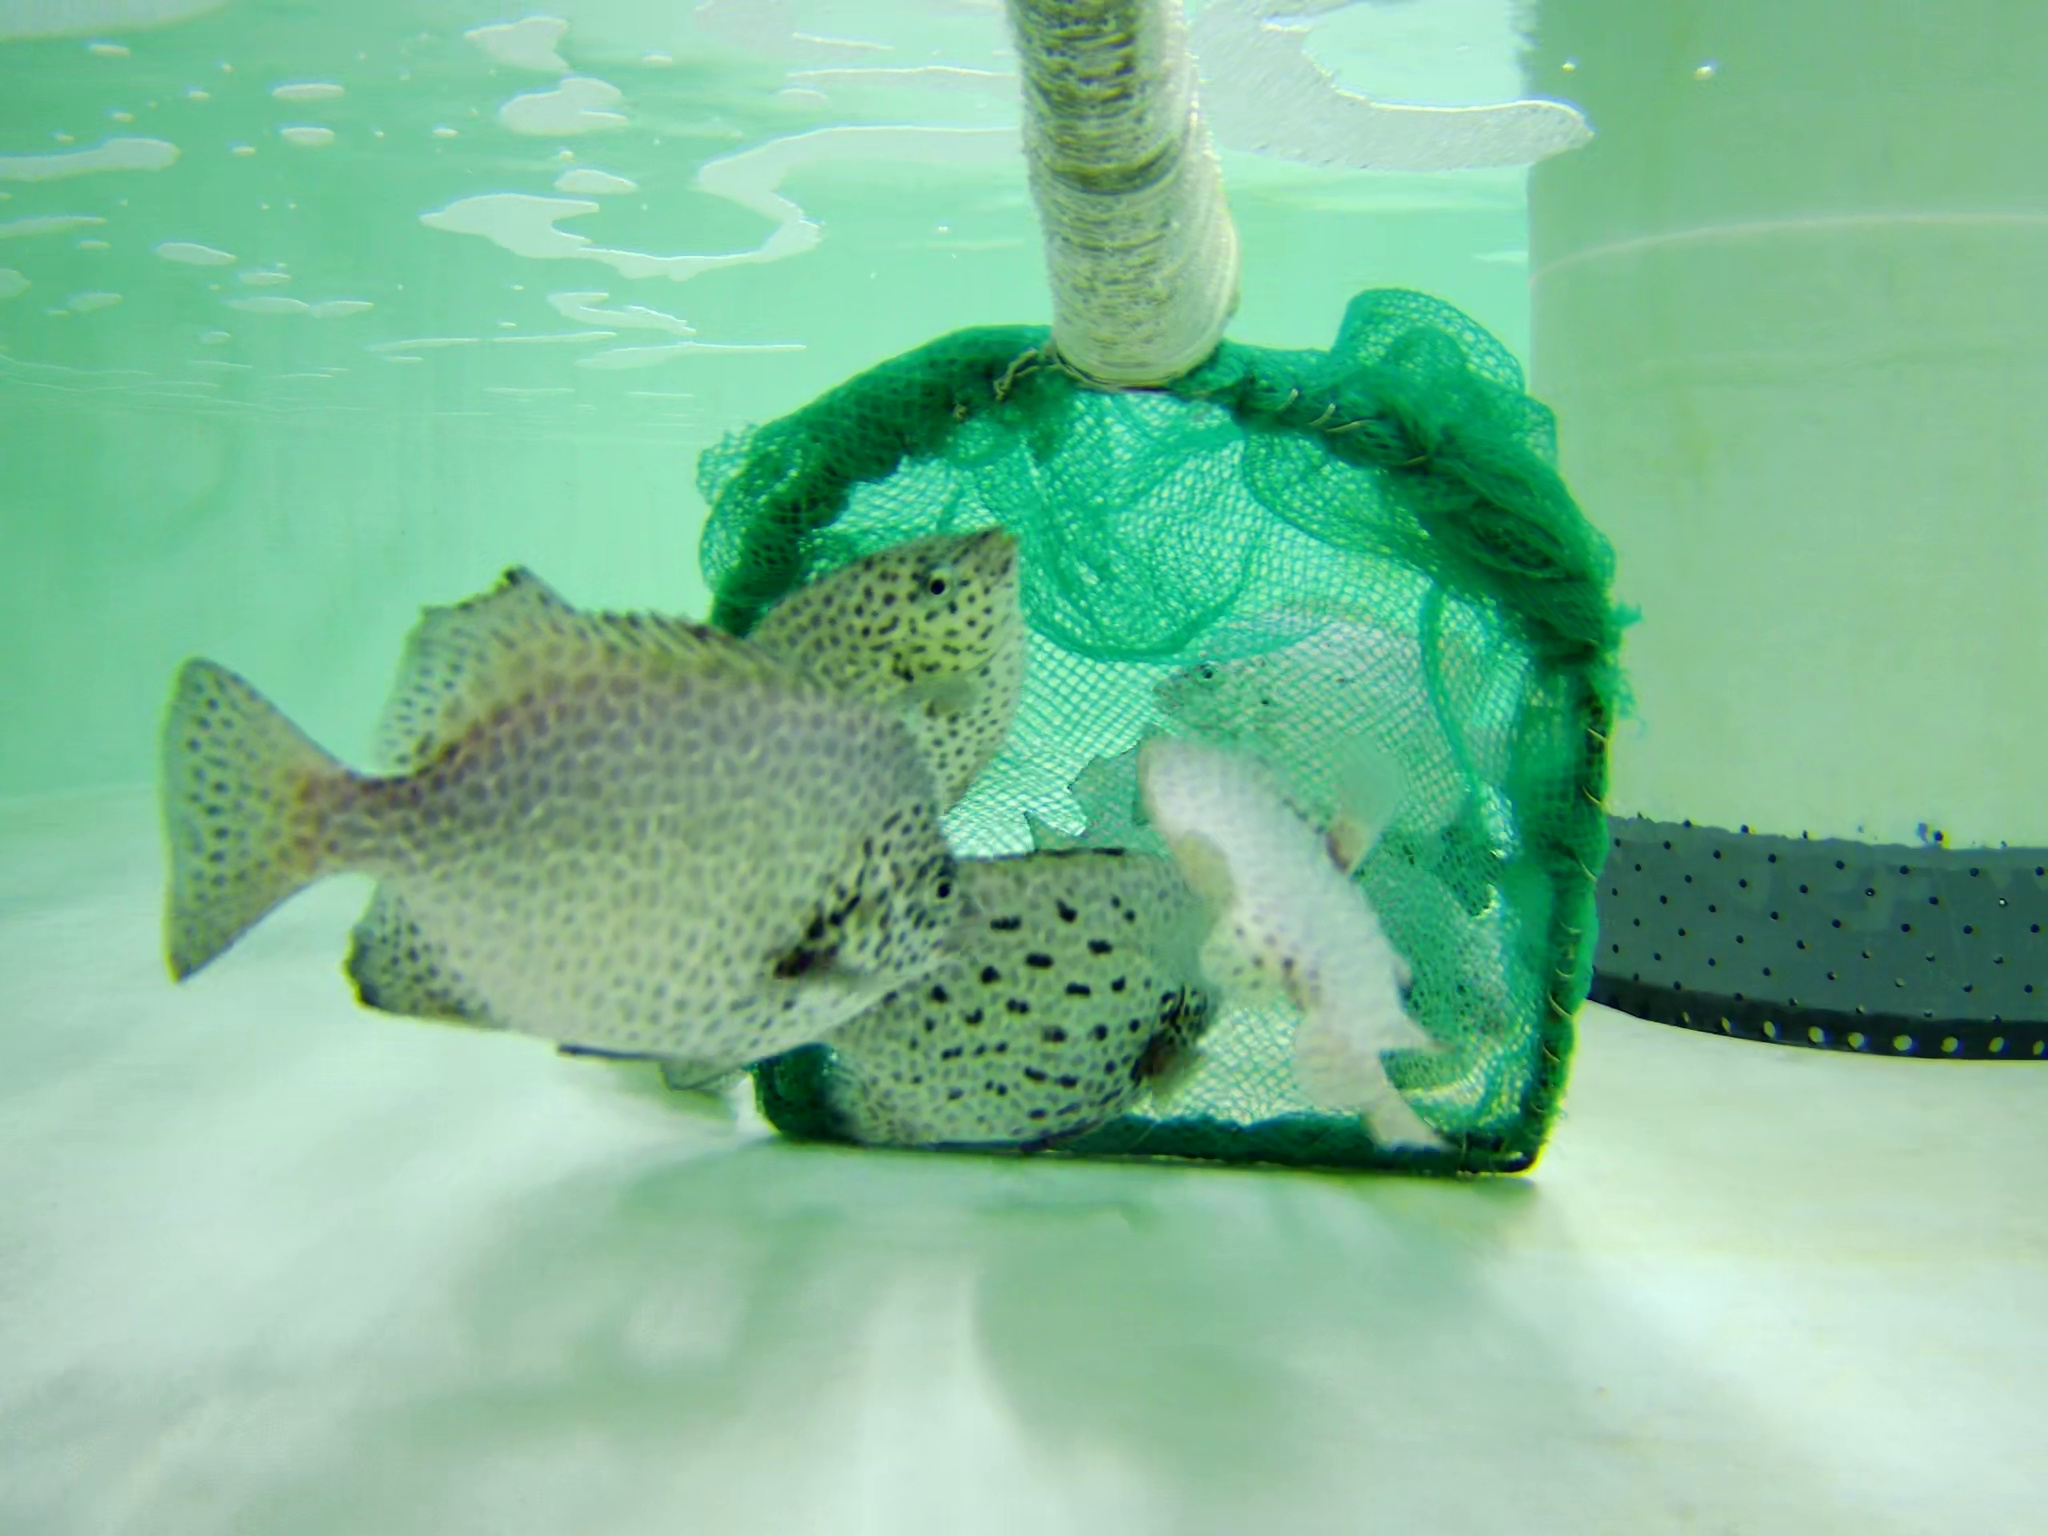fish: (139, 573, 974, 1083), (727, 850, 1245, 1176), (695, 523, 1026, 852), (1172, 844, 1538, 1096), (1153, 600, 1534, 842), (1390, 770, 1563, 931)
